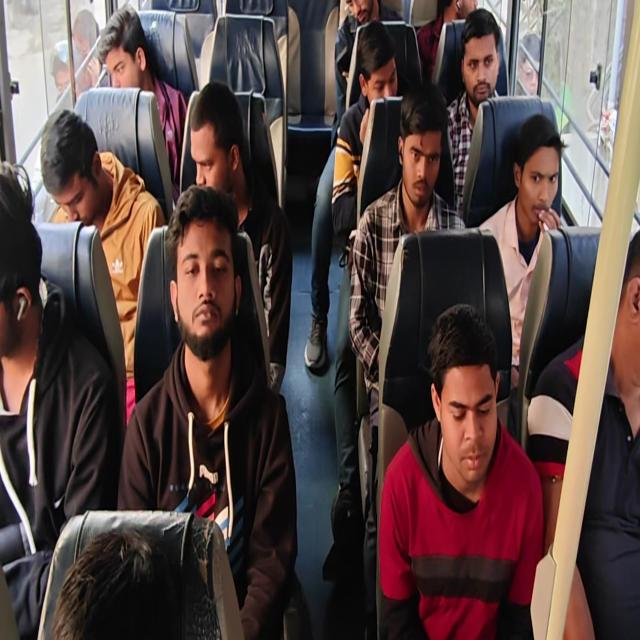person: (59, 508, 204, 640), (157, 186, 257, 355), (425, 305, 500, 477), (179, 68, 250, 200), (0, 156, 43, 372), (40, 104, 108, 220), (504, 106, 564, 230), (393, 78, 448, 203), (607, 219, 640, 388), (105, 1, 155, 98), (352, 18, 399, 107), (463, 1, 496, 110), (336, 0, 376, 32), (442, 0, 478, 29)
